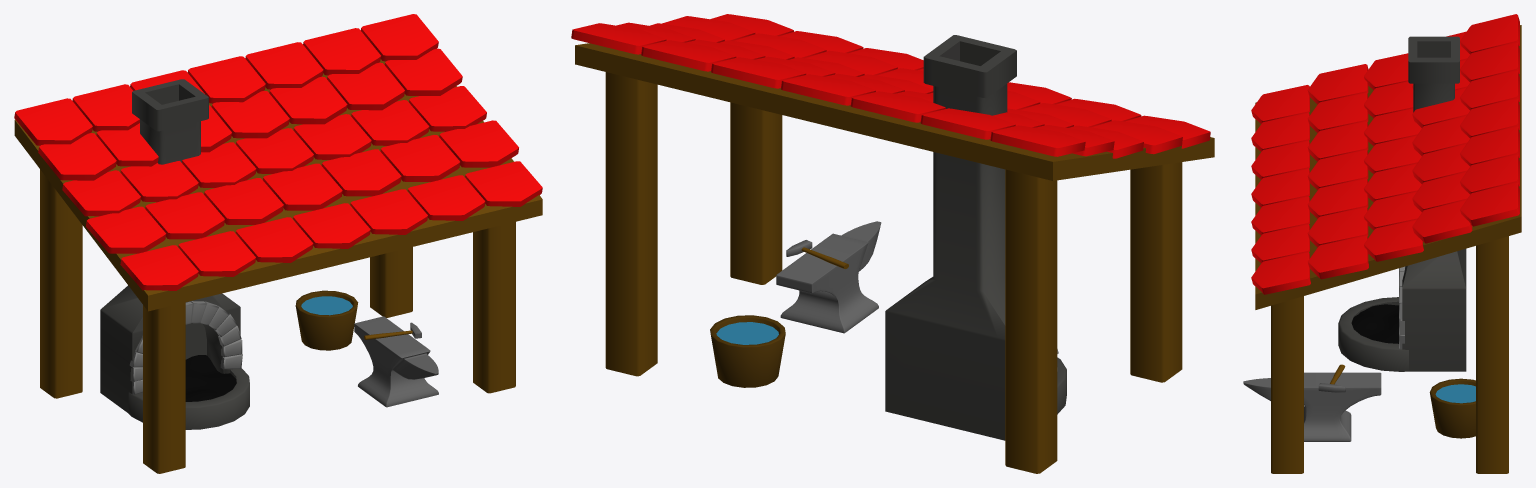
The model's file is Blacksmith_RedTeam.fbx.
3 renders of one model, left to right at view 1: azimuth 30°, elevation 25°; view 2: azimuth 150°, elevation 25°; view 3: azimuth 270°, elevation 25°, orthographic. The views are drawn at different scales.
Parts seen in each view (by area): view 1: Blacksmith_RedTeam; view 2: Blacksmith_RedTeam; view 3: Blacksmith_RedTeam.
Boxes of the visible parts, bbox=[...] form: Blacksmith_RedTeam: bbox=[14, 14, 542, 473]; Blacksmith_RedTeam: bbox=[571, 14, 1214, 473]; Blacksmith_RedTeam: bbox=[1243, 14, 1521, 473].
Size of the model in its own units: 2265 by 1571 by 1337.
